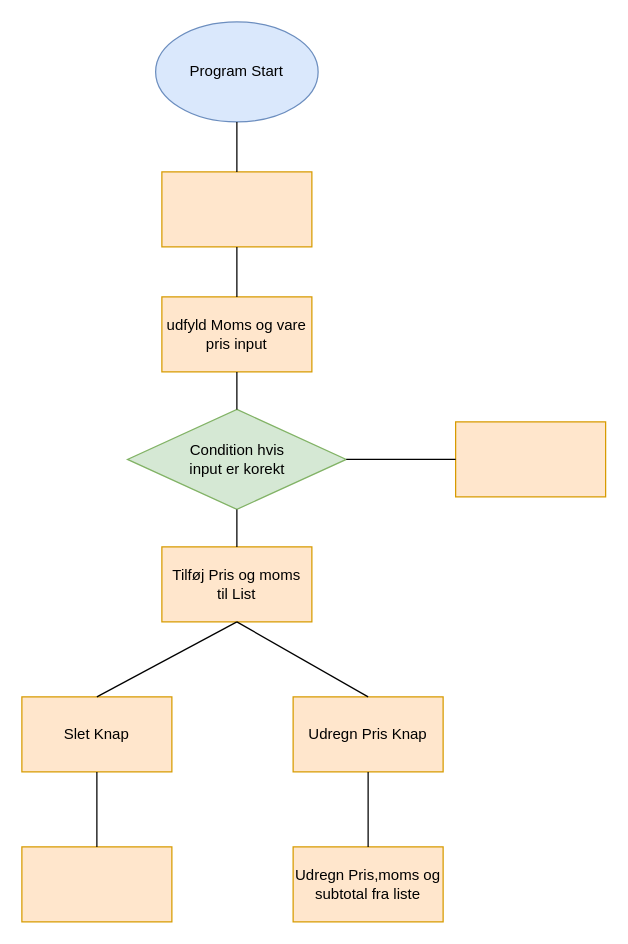
Some shapes in this 628 by 944 pixel diagram are drawn without their labels. The shapes that lost their labels are listed below. From the top down, each one's centre as x and y in pixels, then its label:
At [236,209]: "Moms Udregner GUI".
At [530,459]: "Error msg".
At [96,884]: "Slet items fra liste".
